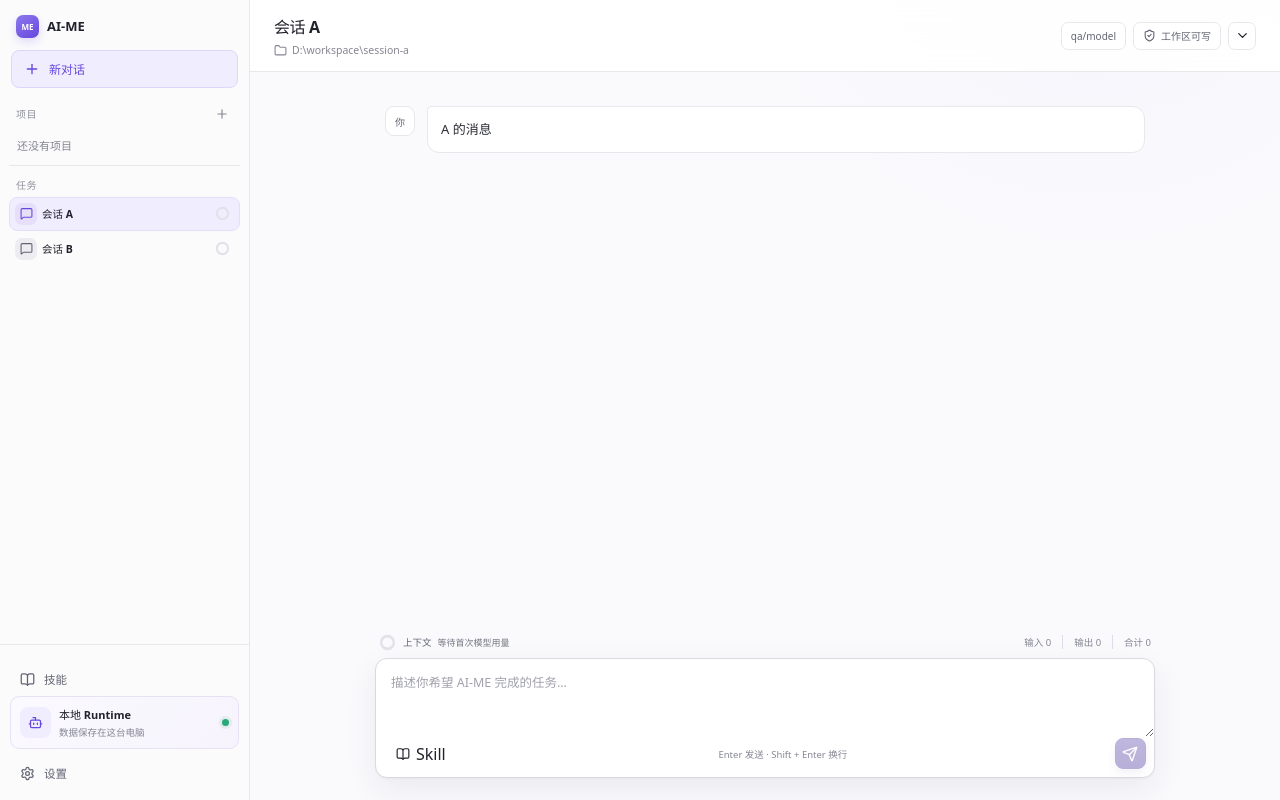
Test case: 会话页面异步隔离 › 切换时立即清空旧投影，B 加载失败也不会泄漏 A 的消息
The width and height of the screenshot is (1280, 800).
Check: the text "A 的消息" is shown, box [441, 120, 492, 138]
Click the button "会话 B": (124, 249) [9, 232, 240, 266]
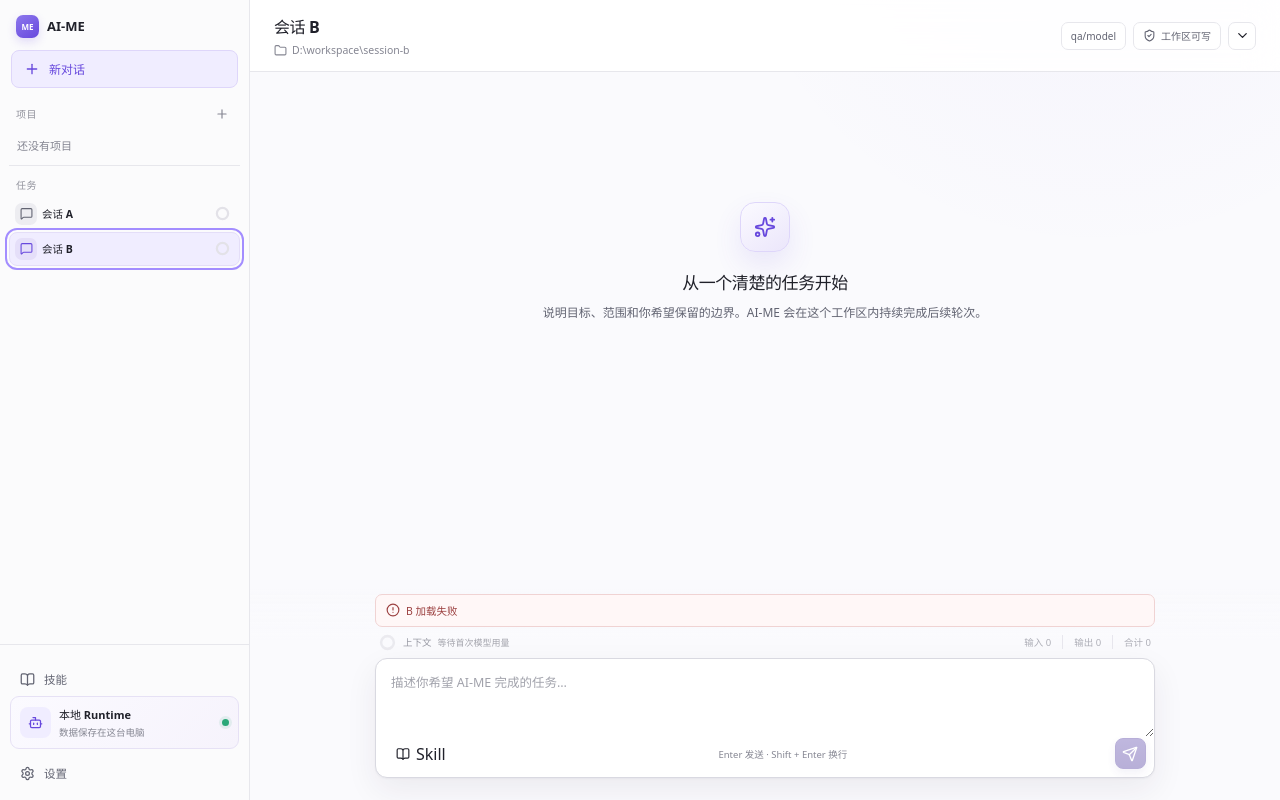
Check: the text "B 加载失败" is shown, box [375, 594, 1155, 627]
Check: the text "A 的消息" is gone
